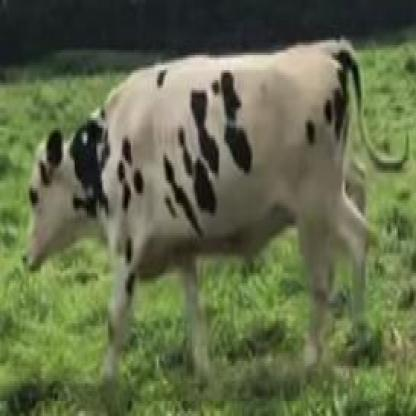cow: (22, 40, 371, 373)
